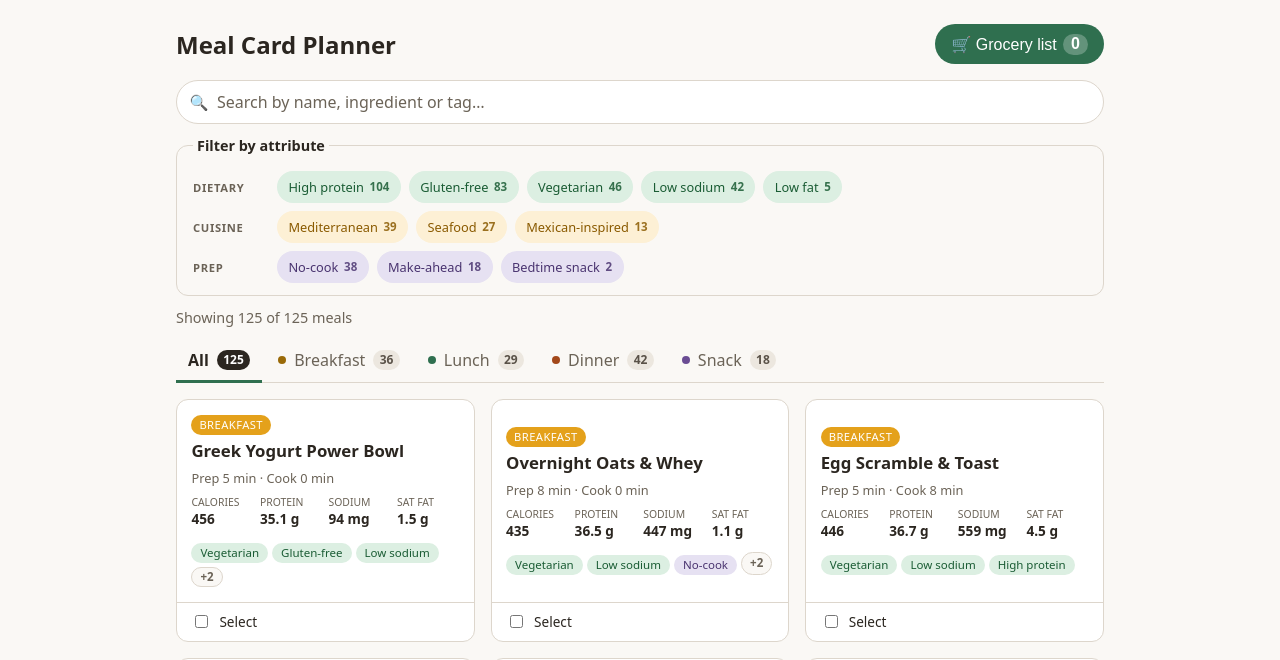
Test: App integration › typing a query narrows the result count and tab counts
The width and height of the screenshot is (1280, 660).
In the search field named "Search meals": (640, 102) [176,80,1104,124], type "salmon"
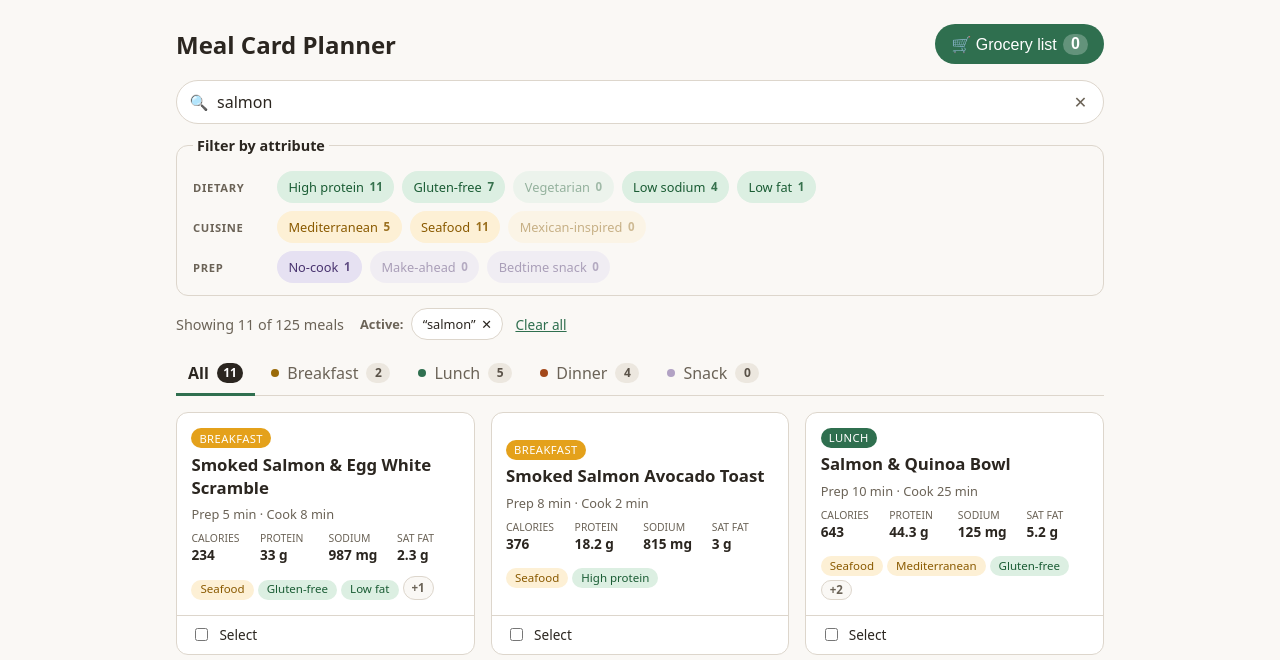
Expected: the button with aria-label "Remove search “salmon”" is shown, [411,308,503,340]
